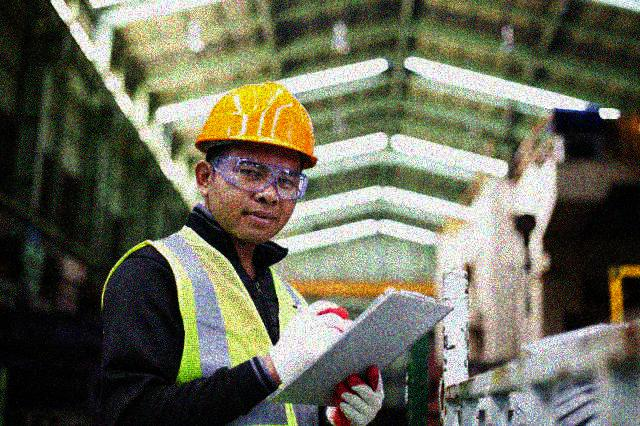helmet: (192, 81, 318, 240)
